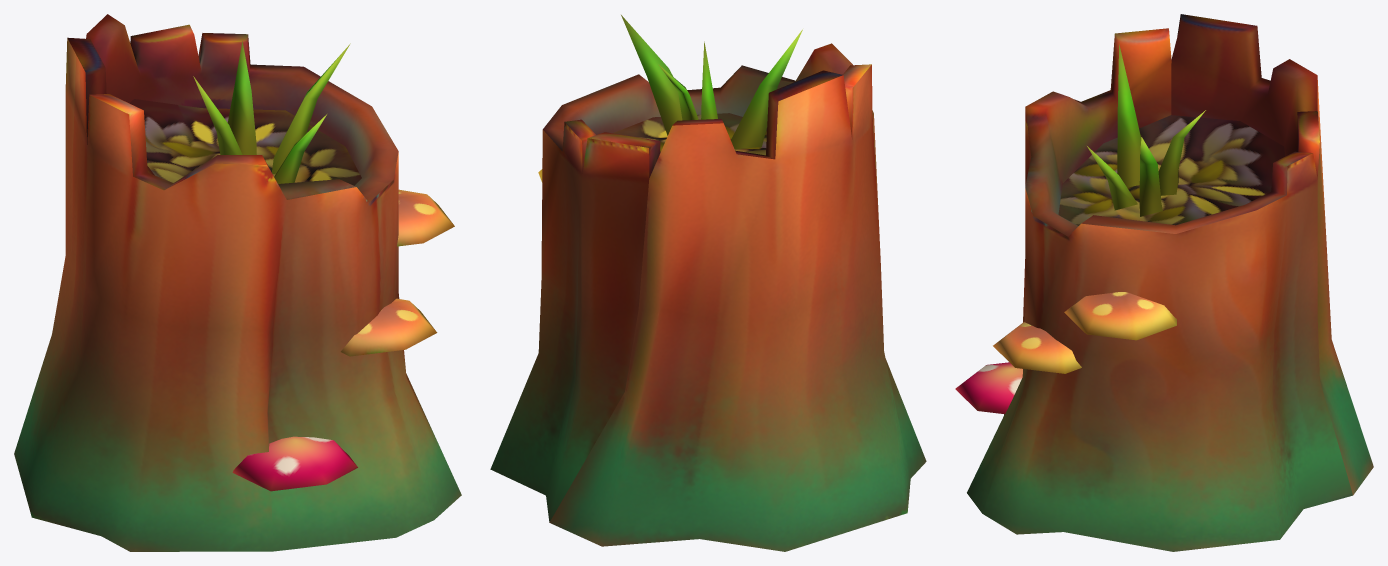
File: Tree_Cut2.FBX
3 renders of one model, left to right at view 1: azimuth 30°, elevation 25°; view 2: azimuth 150°, elevation 25°; view 3: azimuth 270°, elevation 25°, orthographic. The views are drawn at different scales.
Visible parts, largest first — view 1: Tree_Cut2; view 2: Tree_Cut2; view 3: Tree_Cut2.
Boxes of the visible parts, x1=… form: Tree_Cut2: x1=14, y1=14, x2=461, y2=551; Tree_Cut2: x1=490, y1=15, x2=926, y2=551; Tree_Cut2: x1=955, y1=14, x2=1373, y2=551.
Size of the model in its own units: 43.96 by 46.8 by 44.79.
